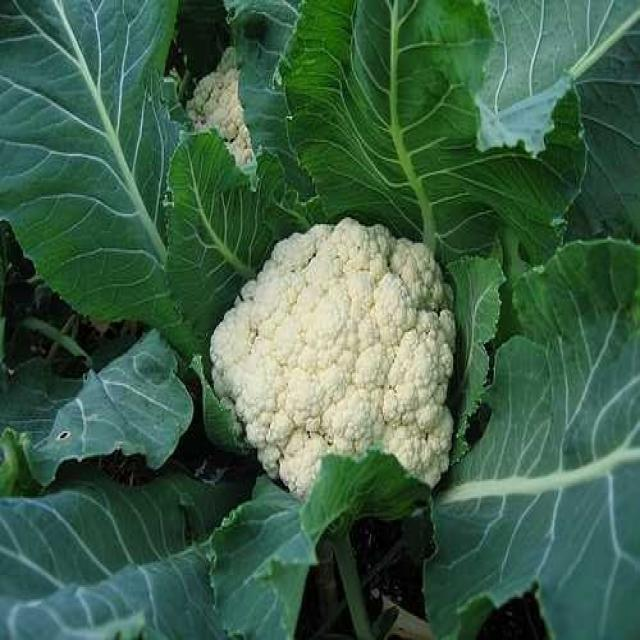cauliflower: (116, 155, 608, 625)
